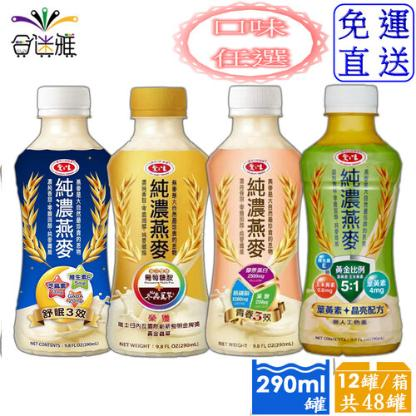Plastic Bottle: (300, 85, 402, 355), (107, 88, 208, 356), (14, 86, 110, 355), (206, 85, 301, 355)
